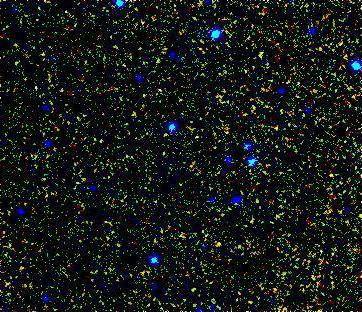star: (203, 234, 233, 264)
